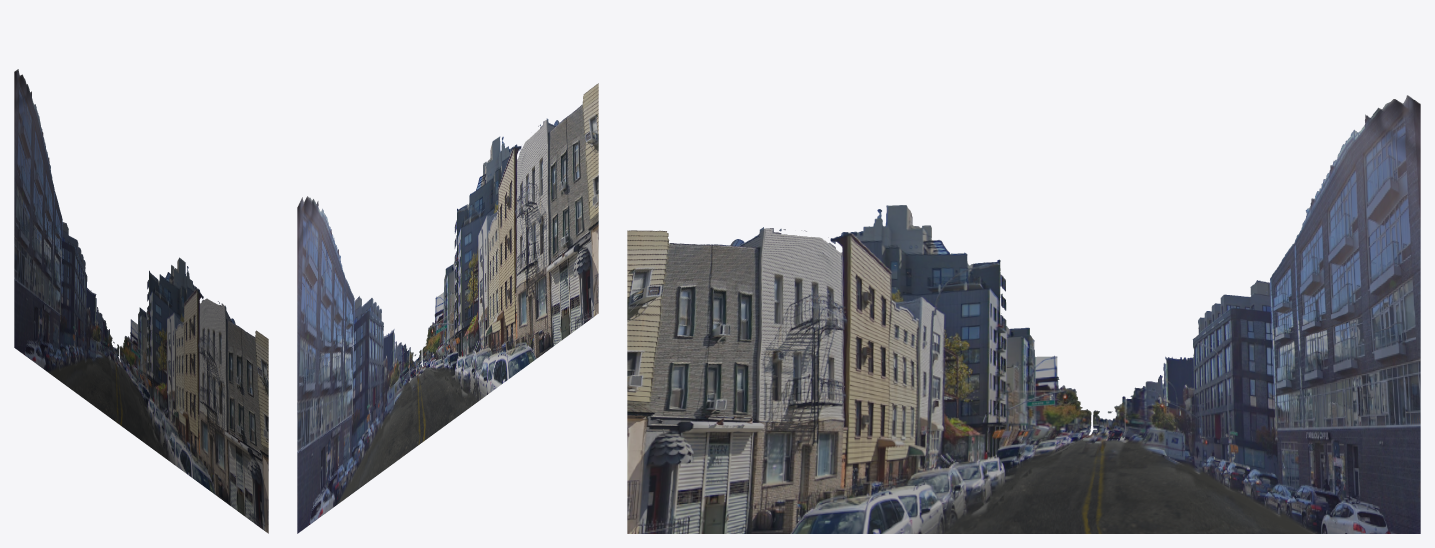
File: city_backgroundBuildings6.fbx
3 renders of one model, left to right at view 1: azimuth 30°, elevation 25°; view 2: azimuth 150°, elevation 25°; view 3: azimuth 270°, elevation 25°, orthographic. The views are drawn at different scales.
Parts seen in each view (by area): view 1: city_backgroundBuildings6; view 2: city_backgroundBuildings6; view 3: city_backgroundBuildings6.
Part boxes in pixels (x1=…): city_backgroundBuildings6: x1=14, y1=69, x2=268, y2=533; city_backgroundBuildings6: x1=297, y1=83, x2=598, y2=533; city_backgroundBuildings6: x1=627, y1=95, x2=1420, y2=533.
Size of the model in its own units: 0.000977 by 4305 by 3113.
Materials: 1 (1 with a texture image).
